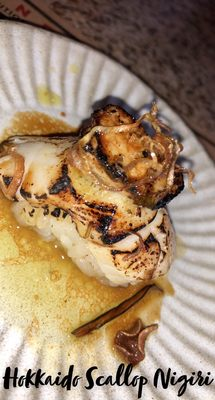sandwich: (0, 97, 189, 397)
